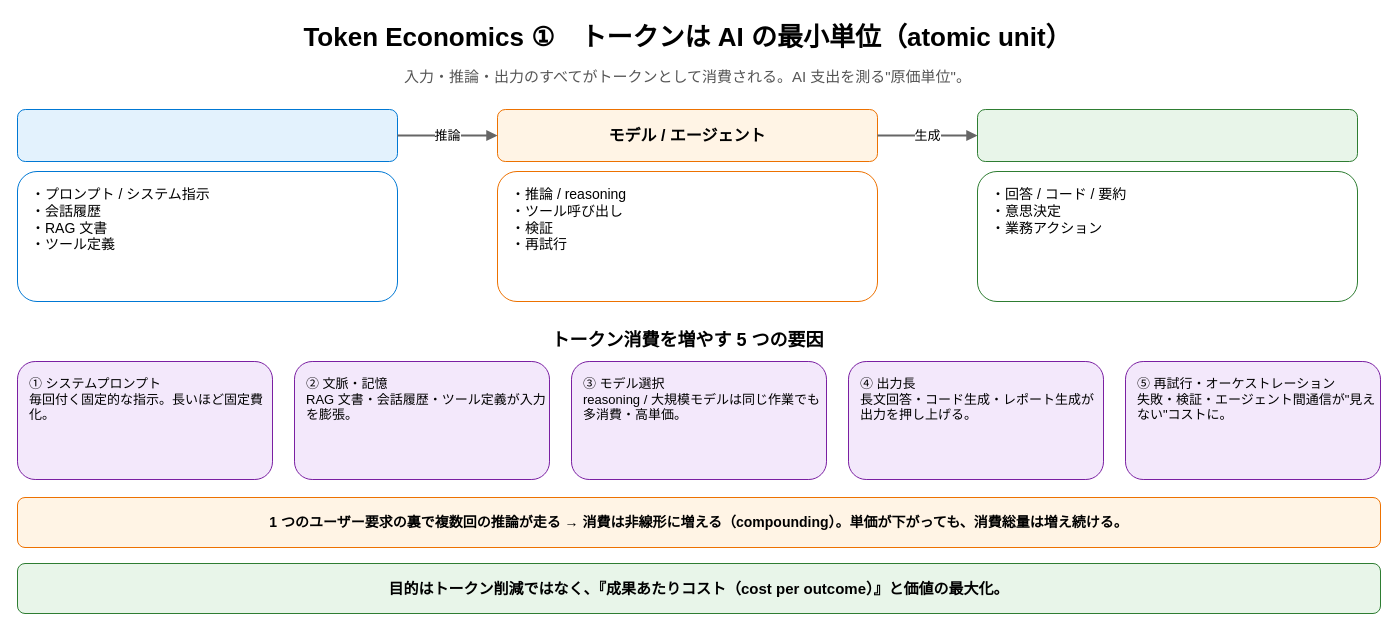
The diagram is 1398 pixels wide and 631 high, and some of its shapes have lost their labels. Each missing label, with the centre of its shape:
入力トークン: the point at 207,135
出力 / 成果: the point at 1167,135
